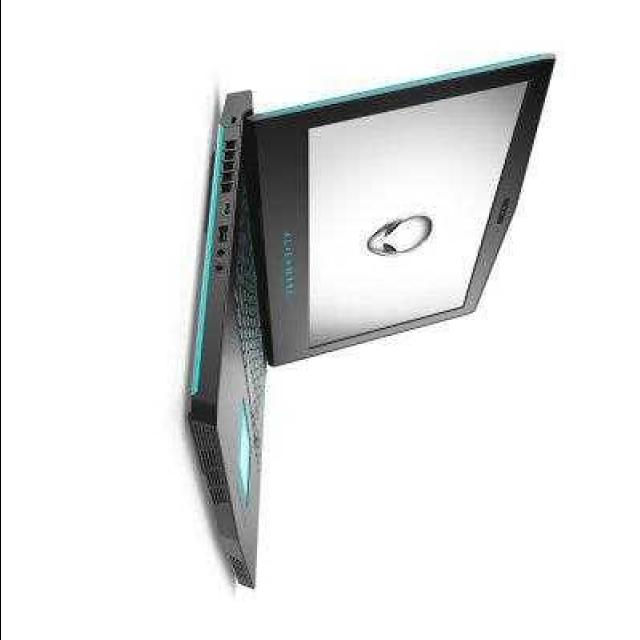laptop: (191, 52, 549, 598)
